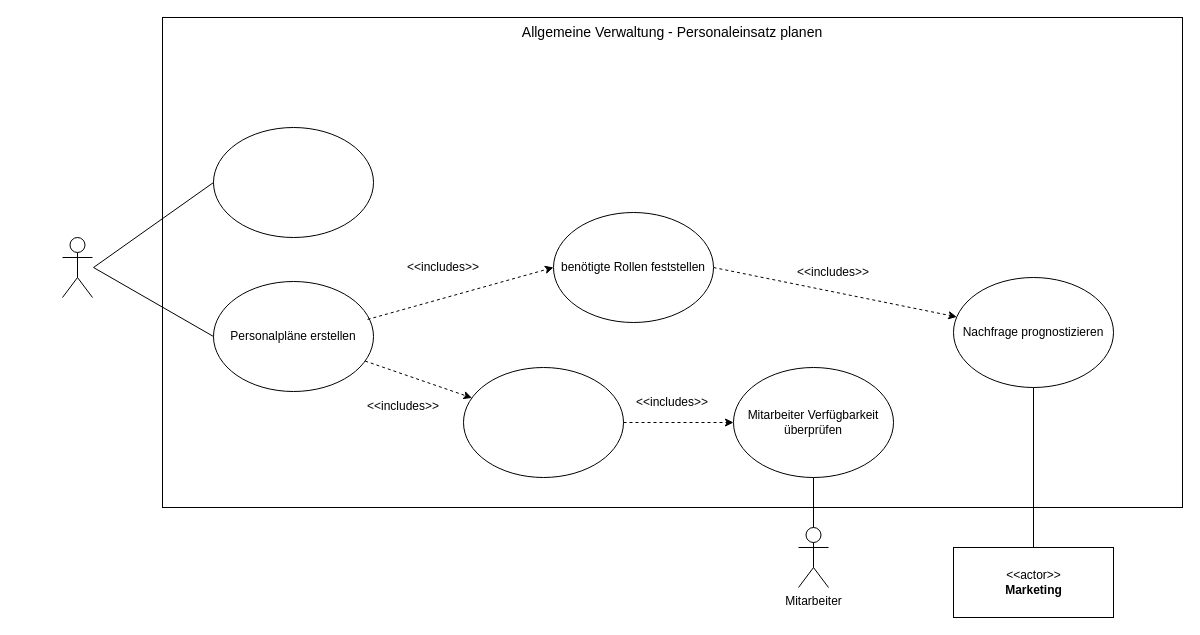
The diagram is 1200 pixels wide and 635 high, and some of its shapes have lost their labels. Each missing label, with the centre of its shape:
"Mitarbeiter zuweisen" goes at pixel 543 422.
"Personaleinsatz überwachen" goes at pixel 293 182.
"Unternehmenszentrale" goes at pixel 77 267.
